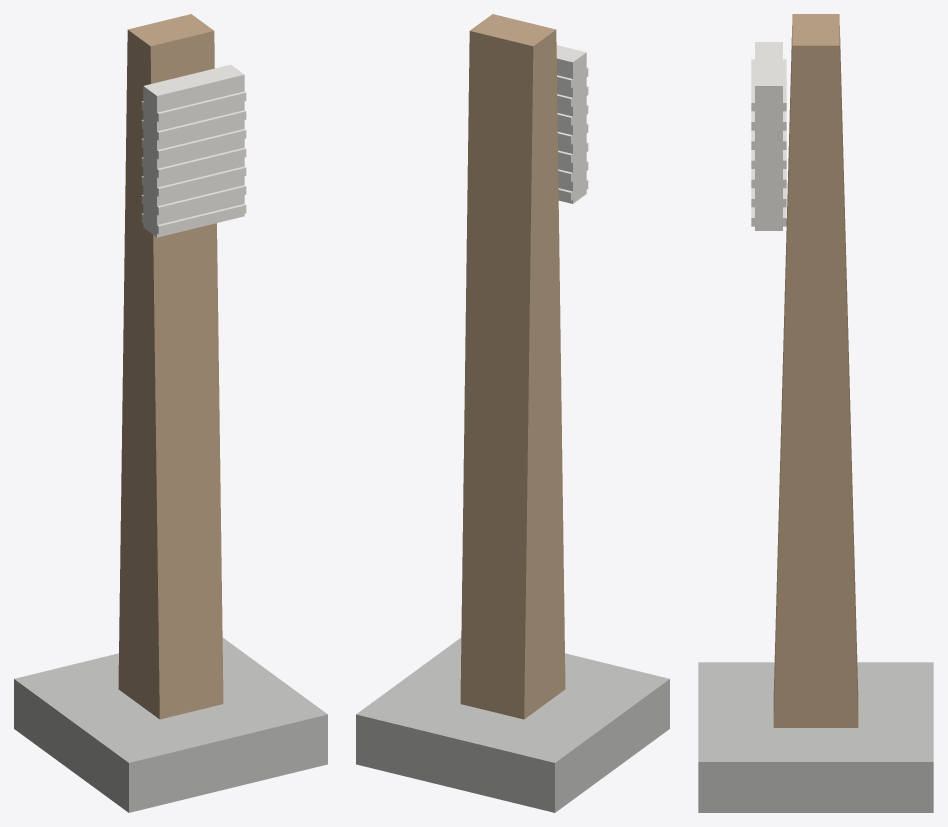
Rendered from martial-arts-dojo-and-fight-stages-makiwara-414e18c4__18040.glb.
3 views of the same model, side by side, from view 1: azimuth 30°, elevation 25°; view 2: azimuth 150°, elevation 25°; view 3: azimuth 270°, elevation 25° (orthographic). The views are drawn at different scales.
Parts seen in each view (by area): view 1: makiwara; view 2: makiwara; view 3: makiwara.
Part boxes in pixels (x1,y1,x2,y2): makiwara: [14, 14, 327, 812]; makiwara: [356, 14, 669, 812]; makiwara: [698, 14, 933, 812].
Size of the model in its own units: 0.5 by 1.72 by 0.5.
